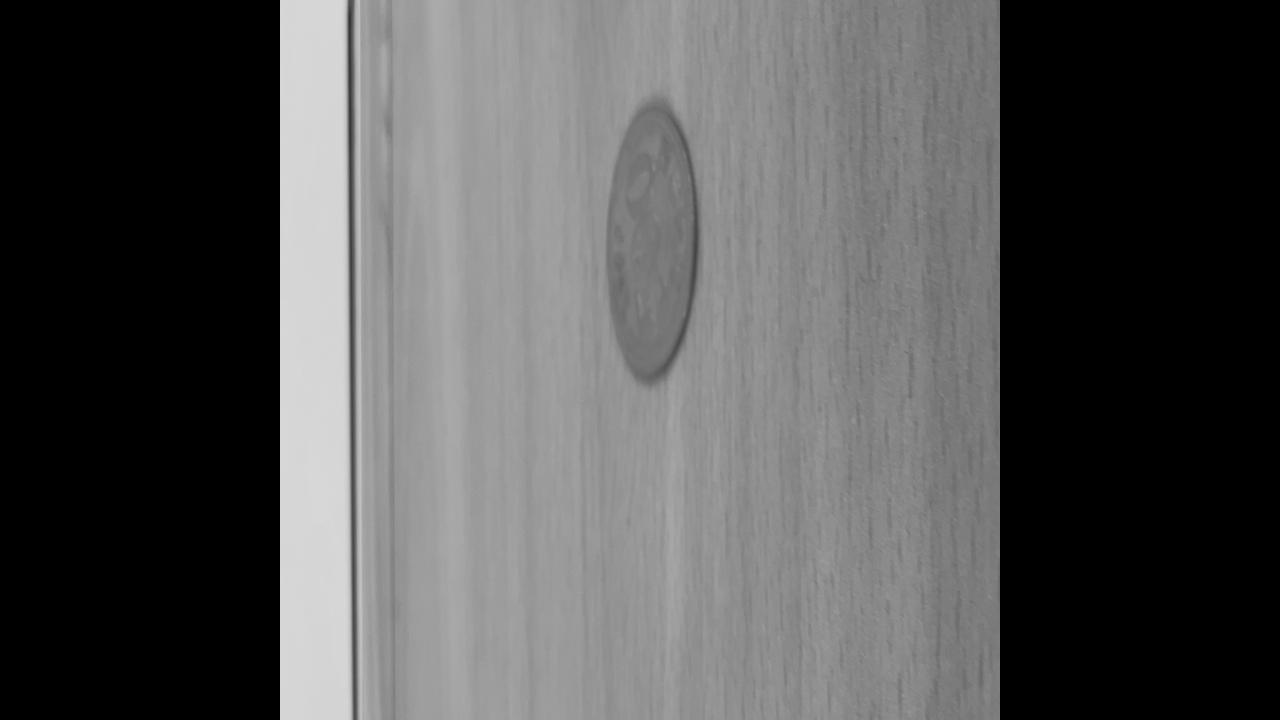coin: (604, 98, 698, 382)
